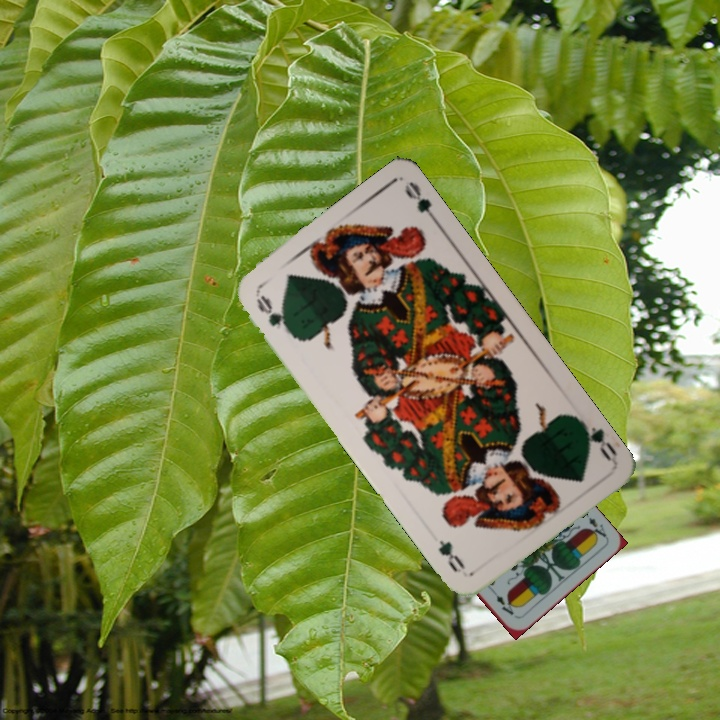EA: (579, 507, 609, 542)
GO: (573, 415, 621, 464), (251, 291, 296, 339)
